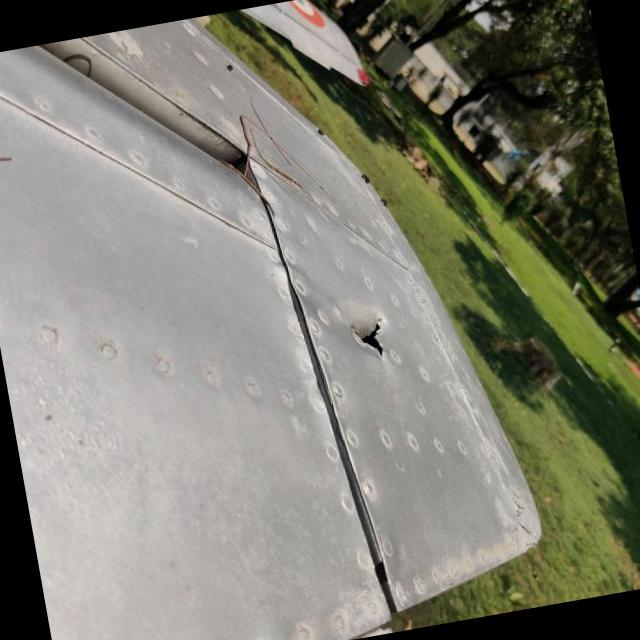crack: (302, 243, 372, 306)
